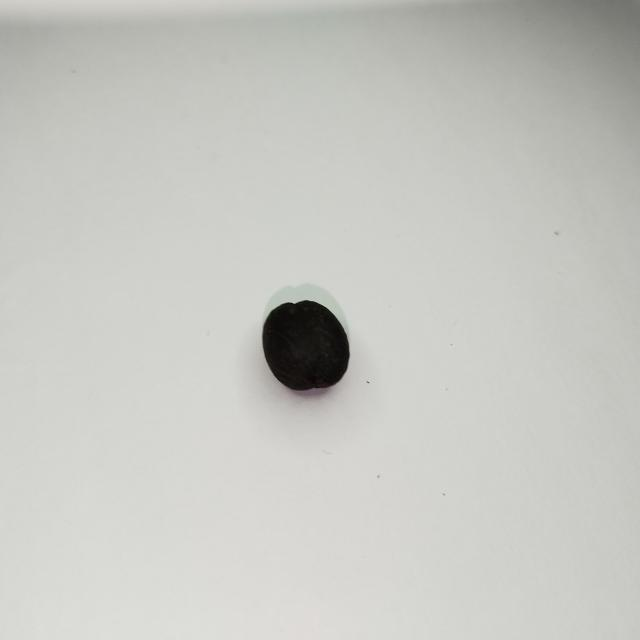Danado: (264, 299, 350, 392)
